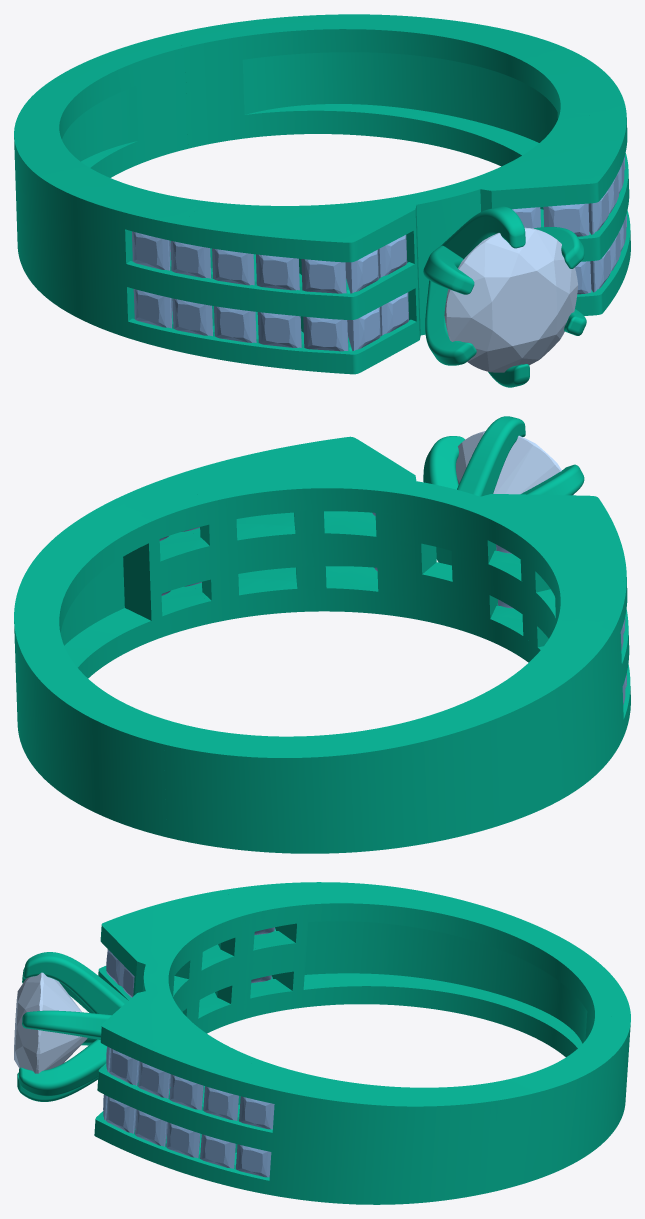
3 views of the same model, one above another, from view 1: azimuth 30°, elevation 25°; view 2: azimuth 150°, elevation 25°; view 3: azimuth 270°, elevation 25° (orthographic). The views are drawn at different scales.
Visible parts, largest first — view 1: LR827(base).3dm, Diamond_Princess (×17), Diamond_Round; view 2: LR827(base).3dm, Diamond_Round; view 3: LR827(base).3dm, Diamond_Princess (×10), Diamond_Round.
Boxes of the visible parts, <box> form: LR827(base).3dm: <box>14,14,630,387</box>; Diamond_Princess (×17): <box>132,190,610,351</box>; Diamond_Round: <box>444,227,578,372</box>; LR827(base).3dm: <box>14,416,630,853</box>; Diamond_Round: <box>456,431,573,495</box>; LR827(base).3dm: <box>17,882,630,1204</box>; Diamond_Princess (×10): <box>106,1048,274,1177</box>; Diamond_Round: <box>14,972,87,1073</box>.
Size of the model in its own units: 2.53 by 0.779 by 3.
